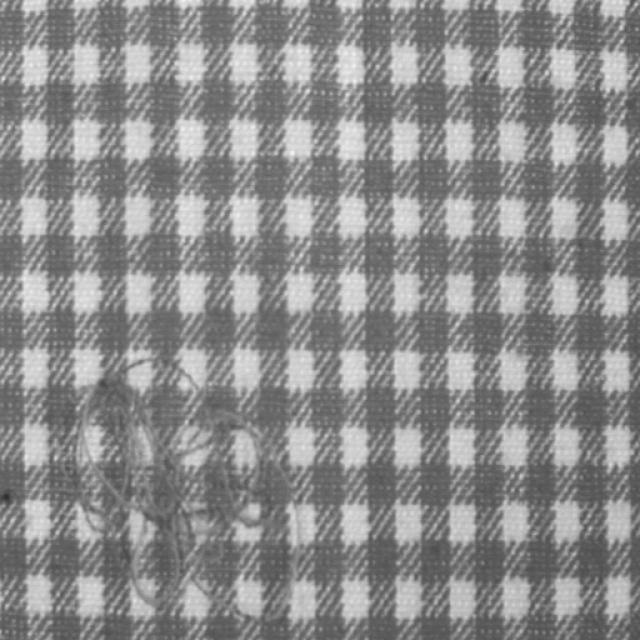Foreign-Body-Defect: (75, 361, 292, 619)
